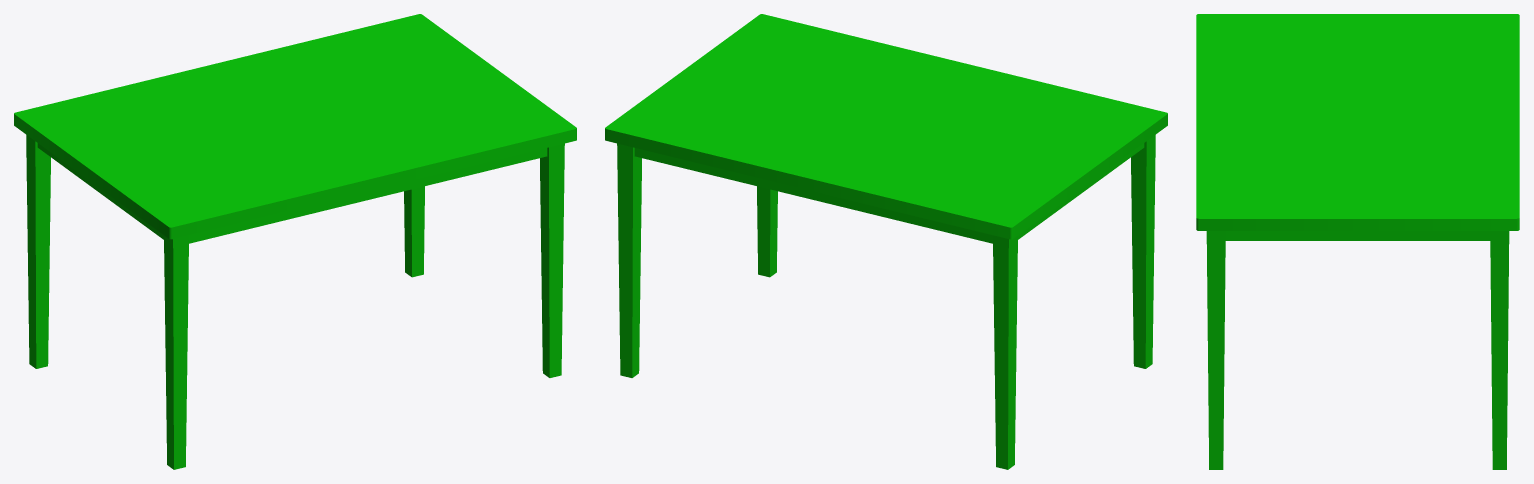
File: UCX_Table2.fbx
3 renders of one model, left to right at view 1: azimuth 30°, elevation 25°; view 2: azimuth 150°, elevation 25°; view 3: azimuth 270°, elevation 25°, orthographic. The views are drawn at different scales.
Parts seen in each view (by area): view 1: UCX_Table2; view 2: UCX_Table2; view 3: UCX_Table2.
Boxes of the visible parts, x1=… form: UCX_Table2: x1=14, y1=14, x2=576, y2=469; UCX_Table2: x1=605, y1=14, x2=1167, y2=469; UCX_Table2: x1=1196, y1=14, x2=1519, y2=469.
Size of the model in its own units: 1.2 by 0.7 by 0.8.
